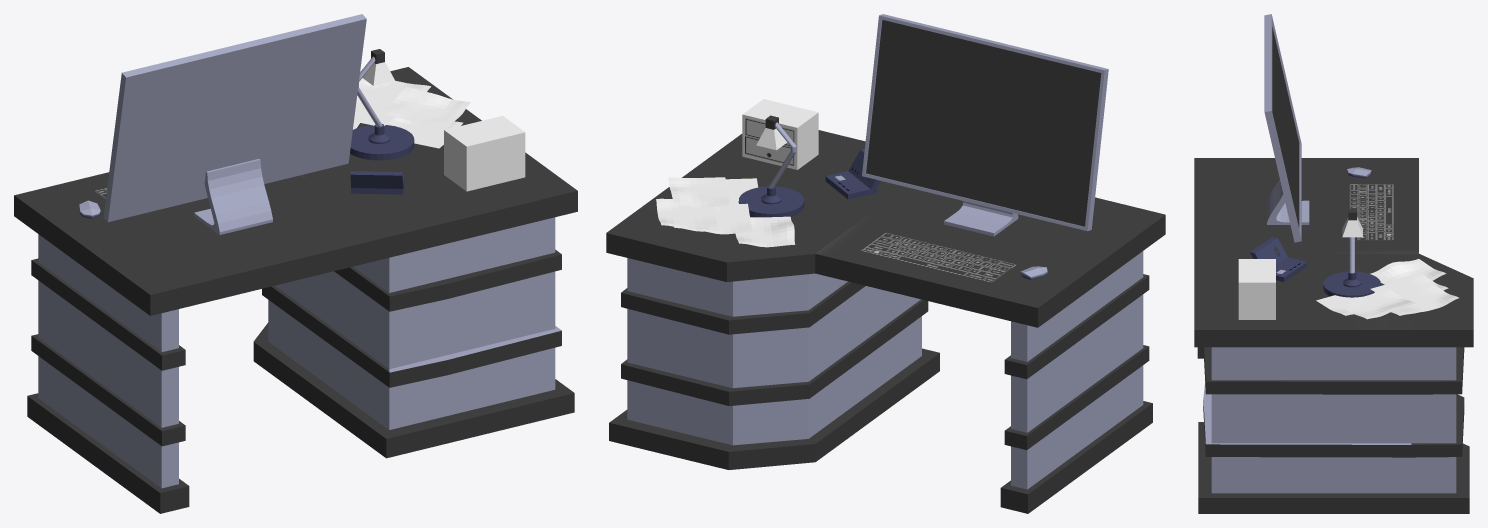
File: CompDesk.fbx
The picture shows the model from 3 angles, left to right: view 1: azimuth 30°, elevation 25°; view 2: azimuth 150°, elevation 25°; view 3: azimuth 270°, elevation 25°; orthographic projection. The views are drawn at different scales.
Parts seen in each view (by area): view 1: CompDesk; view 2: CompDesk; view 3: CompDesk.
Boxes of the visible parts, left/top/right/bottom form: CompDesk: left=14, top=14, right=577, bottom=513; CompDesk: left=606, top=14, right=1165, bottom=513; CompDesk: left=1194, top=14, right=1473, bottom=513.
Size of the model in its own units: 75.39 by 68.56 by 51.71.
